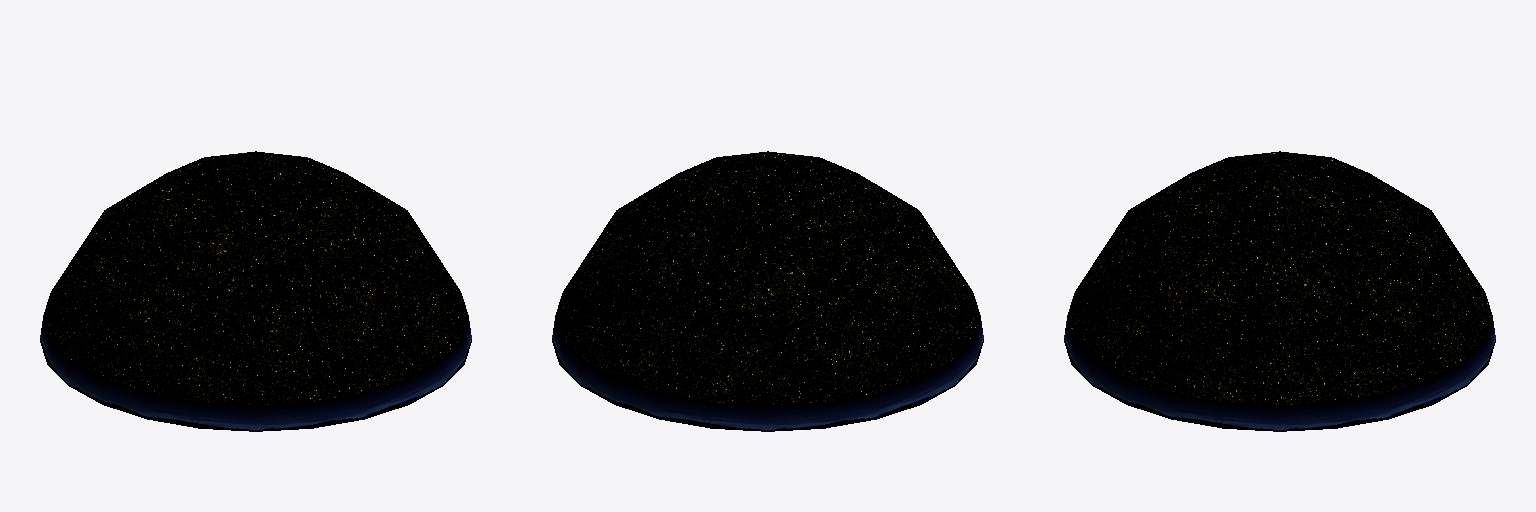
The picture shows the model from 3 angles: view 1: azimuth 30°, elevation 25°; view 2: azimuth 150°, elevation 25°; view 3: azimuth 270°, elevation 25°; orthographic projection.
Visible parts, largest first — view 1: obj1; view 2: obj1; view 3: obj1.
Part boxes in pixels (x1,y1,x2,y2): obj1: (40,151,471,431); obj1: (552,151,983,431); obj1: (1064,151,1495,431).
Size of the model in its own units: 150000 by 64660 by 150000.
36 materials, 32 textured.